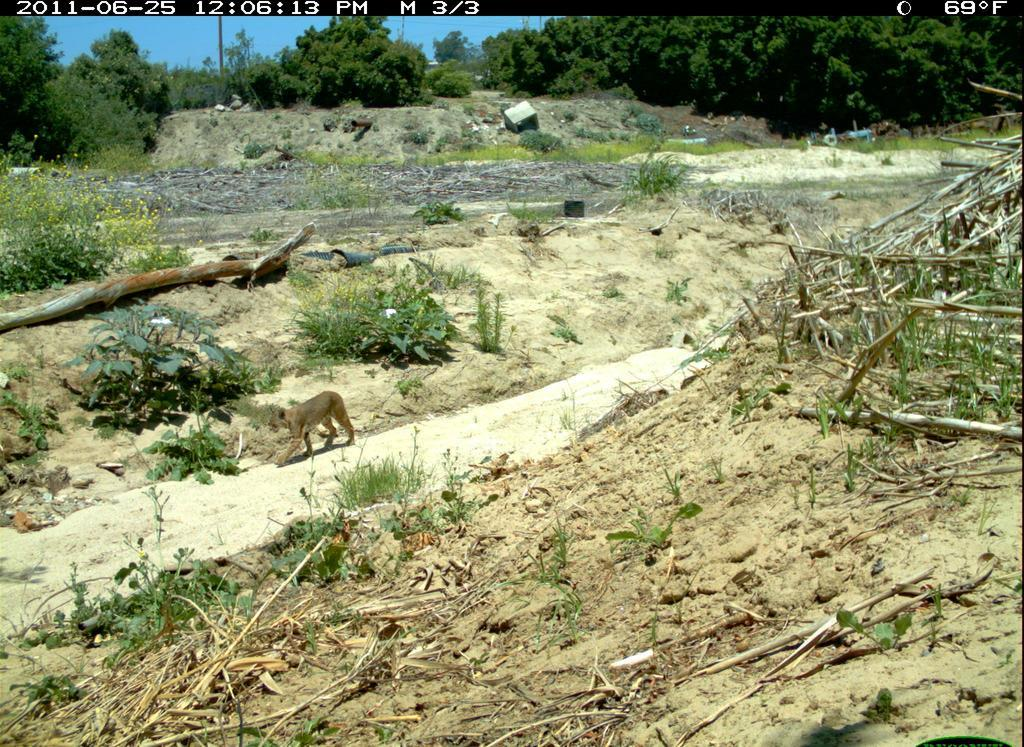bobcat: (257, 386, 363, 466)
